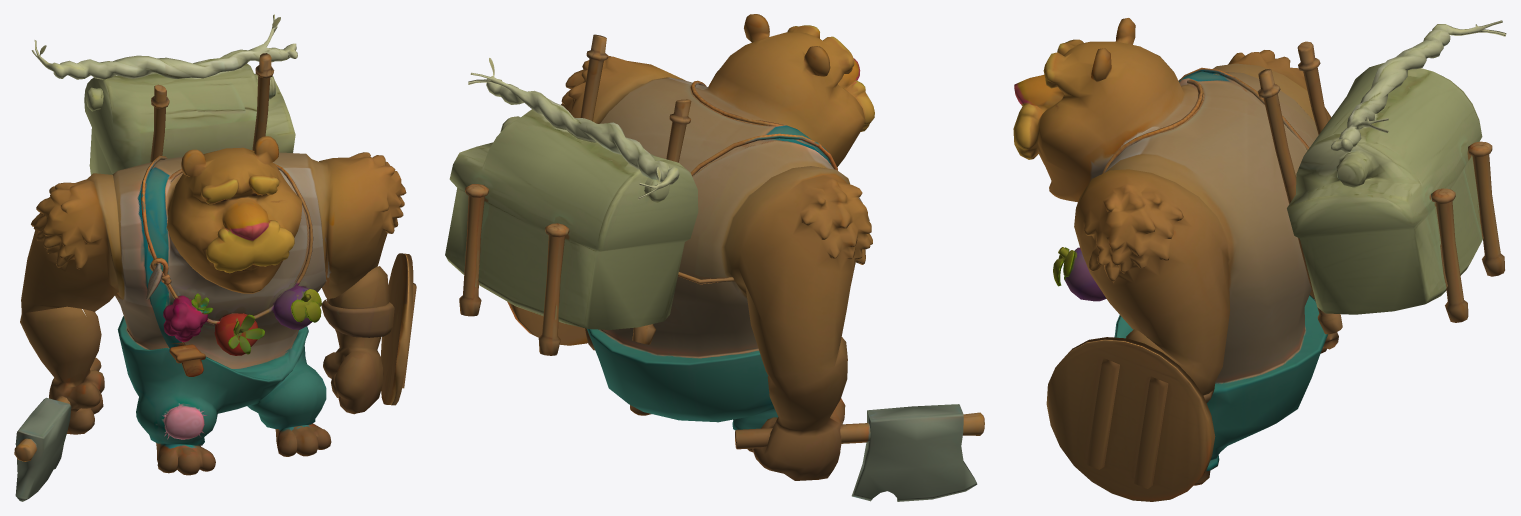
The model's file is bear-dad.glb.
3 views of the same model, side by side, from view 1: azimuth 30°, elevation 25°; view 2: azimuth 150°, elevation 25°; view 3: azimuth 270°, elevation 25° (orthographic). The views are drawn at different scales.
Visible parts, largest first — view 1: tripo_0d6edd47_4758_46e5_9b1b_f930f0d3181b; view 2: tripo_0d6edd47_4758_46e5_9b1b_f930f0d3181b; view 3: tripo_0d6edd47_4758_46e5_9b1b_f930f0d3181b.
Part boxes in pixels (left/top/right/bottom): tripo_0d6edd47_4758_46e5_9b1b_f930f0d3181b: left=14, top=14, right=416, bottom=501; tripo_0d6edd47_4758_46e5_9b1b_f930f0d3181b: left=445, top=14, right=984, bottom=501; tripo_0d6edd47_4758_46e5_9b1b_f930f0d3181b: left=1013, top=18, right=1506, bottom=501.
Bounding box in the file's own units: 0.9995 × 0.854 × 0.8853.
1 material, 1 textured.
